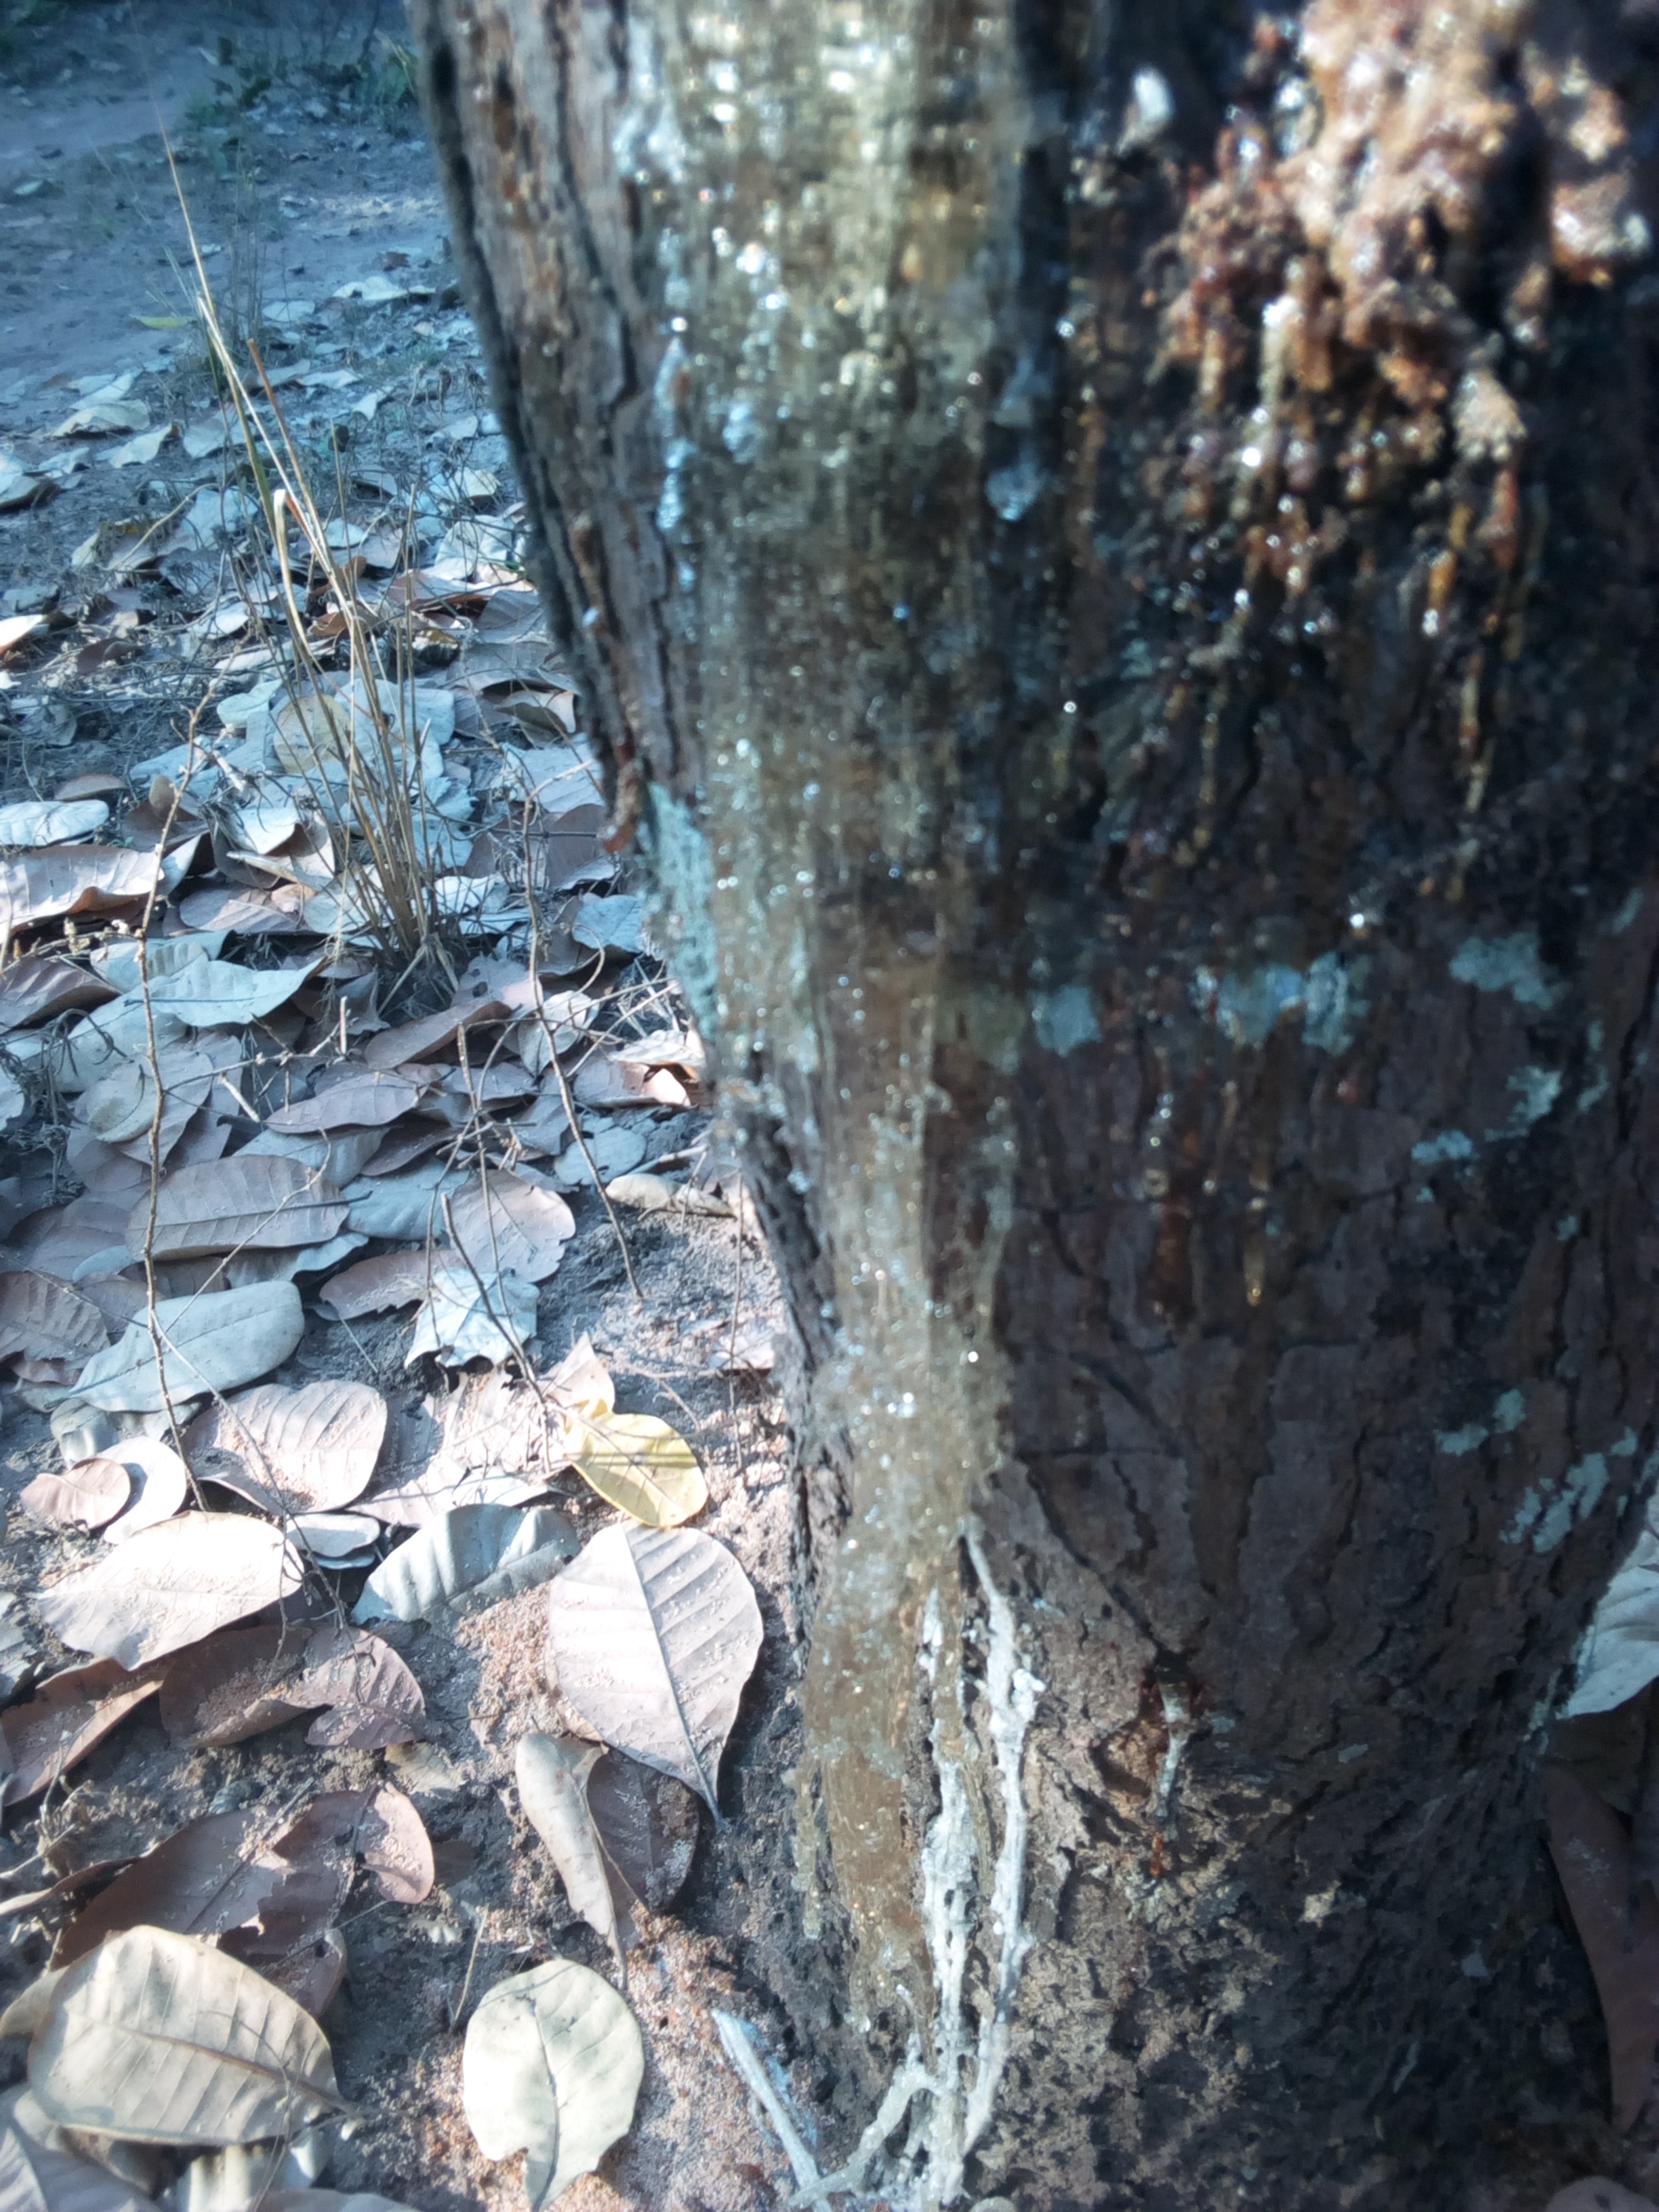Gommose: (962, 134, 1558, 2132)
